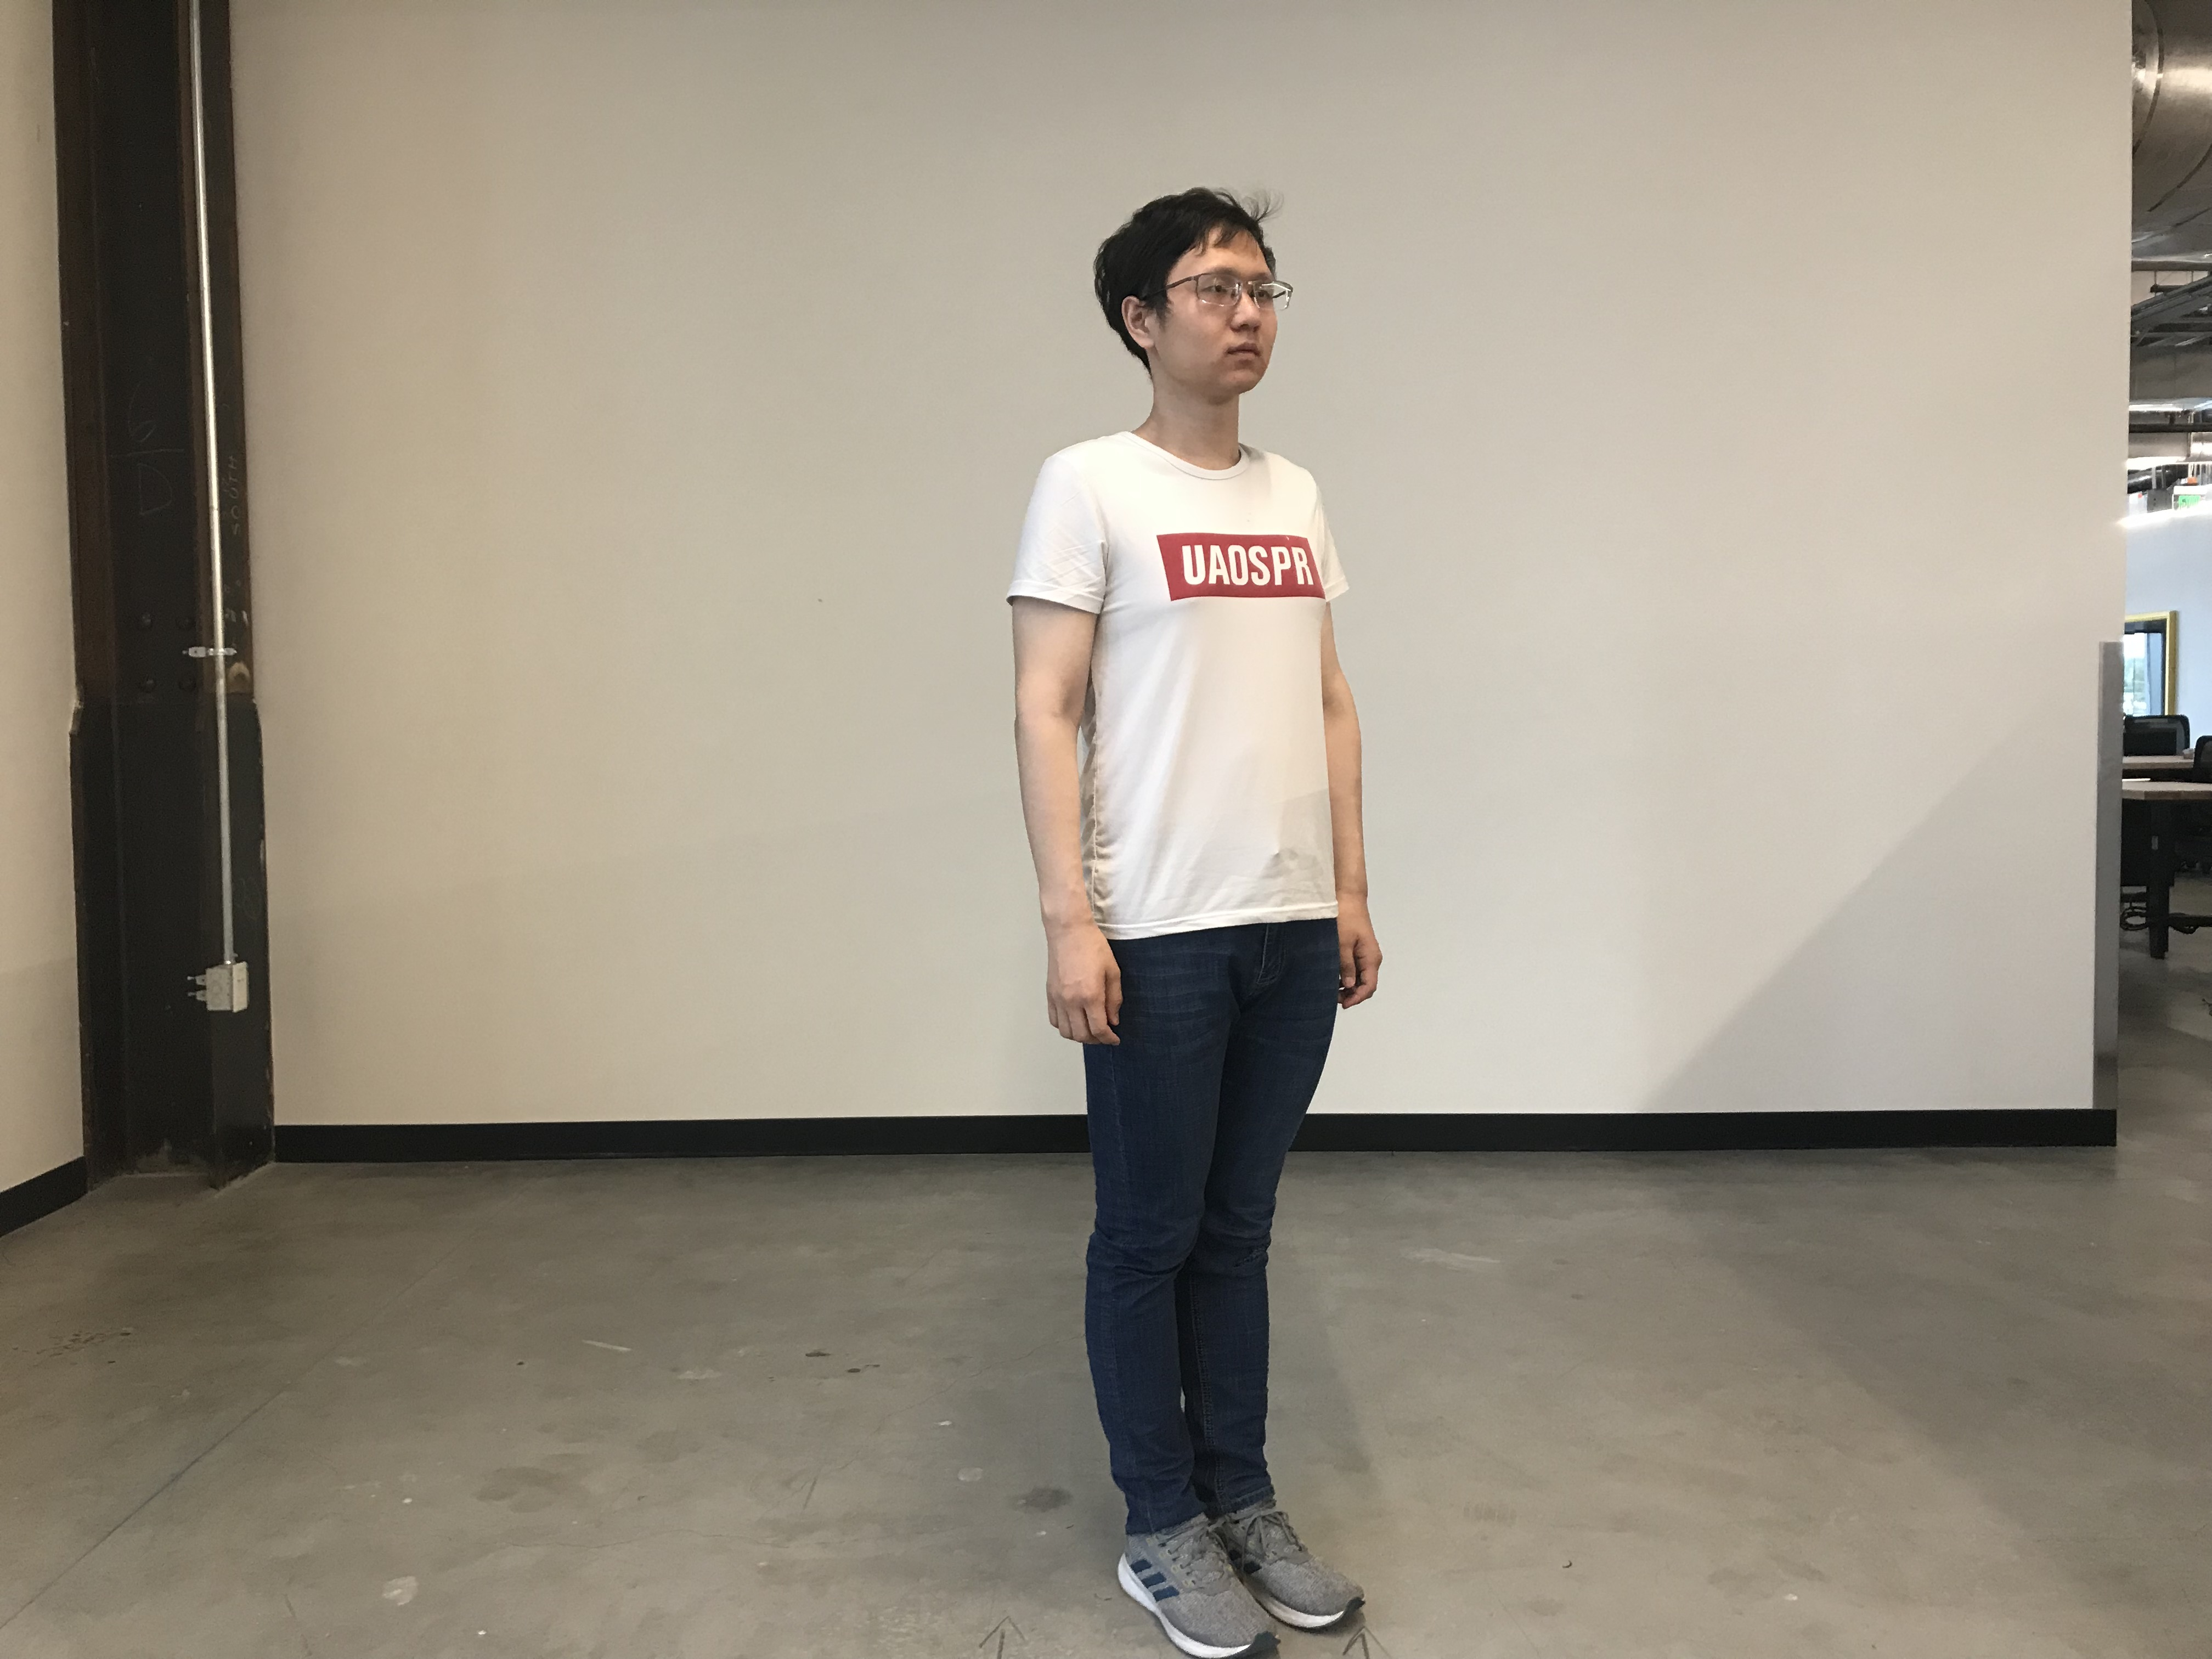attack_zone: (1130, 495, 1289, 828), (2092, 47, 2109, 64)
